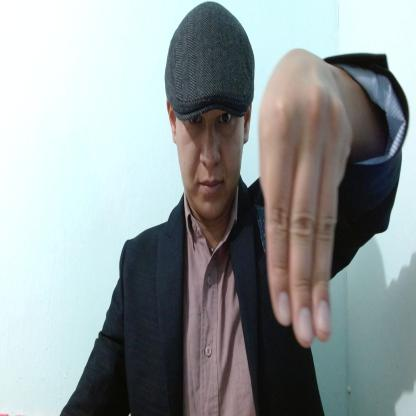M: (261, 49, 354, 346)
